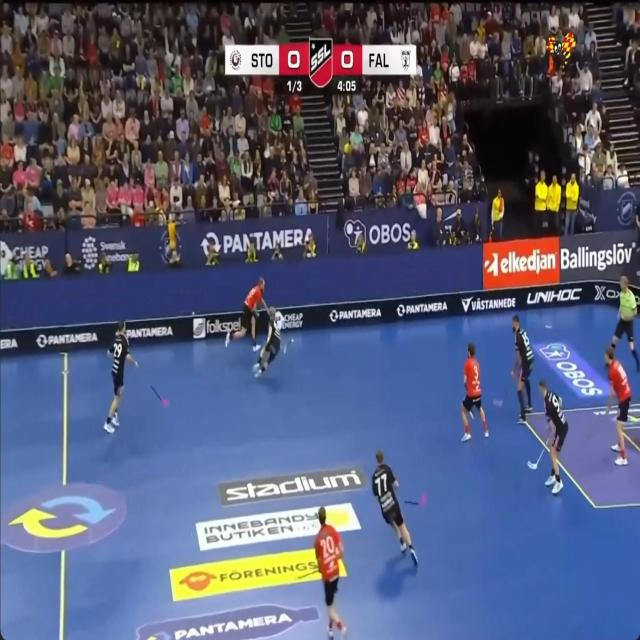player: (372, 450, 417, 566), (314, 507, 346, 637), (103, 322, 137, 432), (539, 380, 567, 493), (605, 347, 631, 465), (225, 277, 266, 350), (611, 276, 640, 370), (461, 344, 488, 441), (512, 314, 533, 422), (253, 307, 284, 377)
stick: (527, 439, 548, 469), (150, 385, 169, 406), (493, 390, 507, 407), (283, 337, 293, 352), (415, 494, 426, 506), (306, 569, 318, 577), (628, 416, 640, 422), (403, 499, 417, 504), (297, 573, 306, 579), (468, 411, 474, 419), (403, 500, 408, 504), (409, 501, 415, 504)
